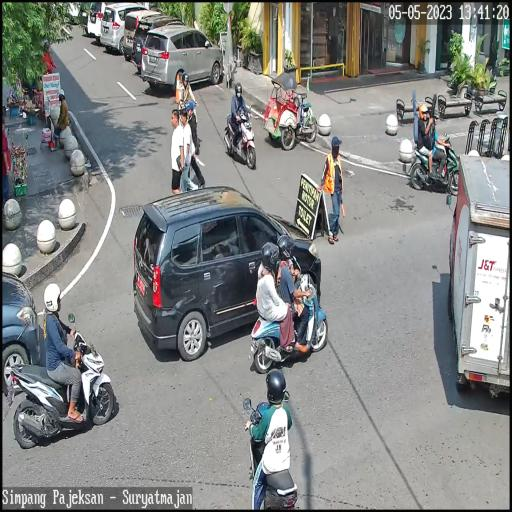mobil: (132, 188, 324, 362), (141, 24, 225, 92)
motor: (10, 314, 116, 448), (234, 392, 316, 512), (240, 260, 328, 370), (406, 130, 460, 194), (224, 104, 257, 171)
